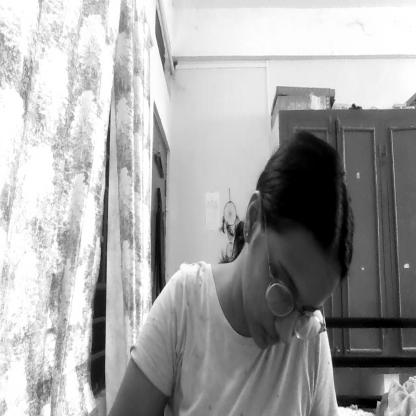Distracted: (241, 130, 358, 355)
